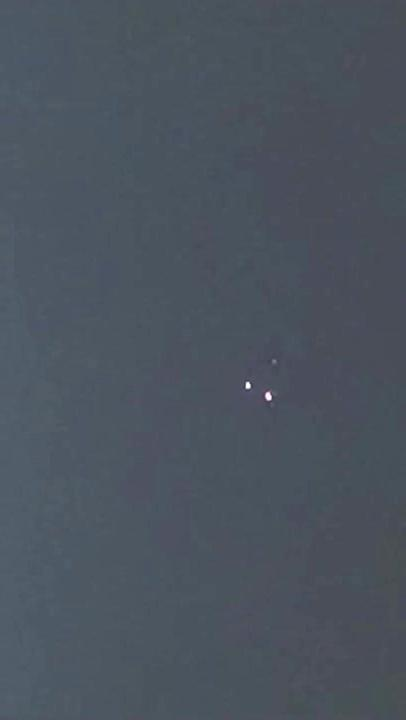Plane: (234, 375, 287, 416)
